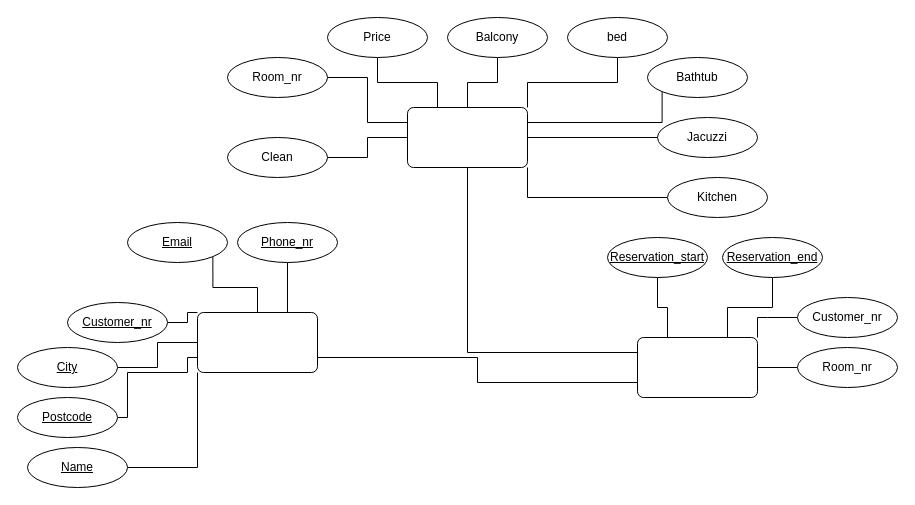
Image size: 915x505. Some labels were removed from this diagram. The centre of each missing label's shape, as x and y in pixels:
"Customer" goes at [257,342].
"Reservation" goes at [697,367].
"Room" goes at [467,137].
